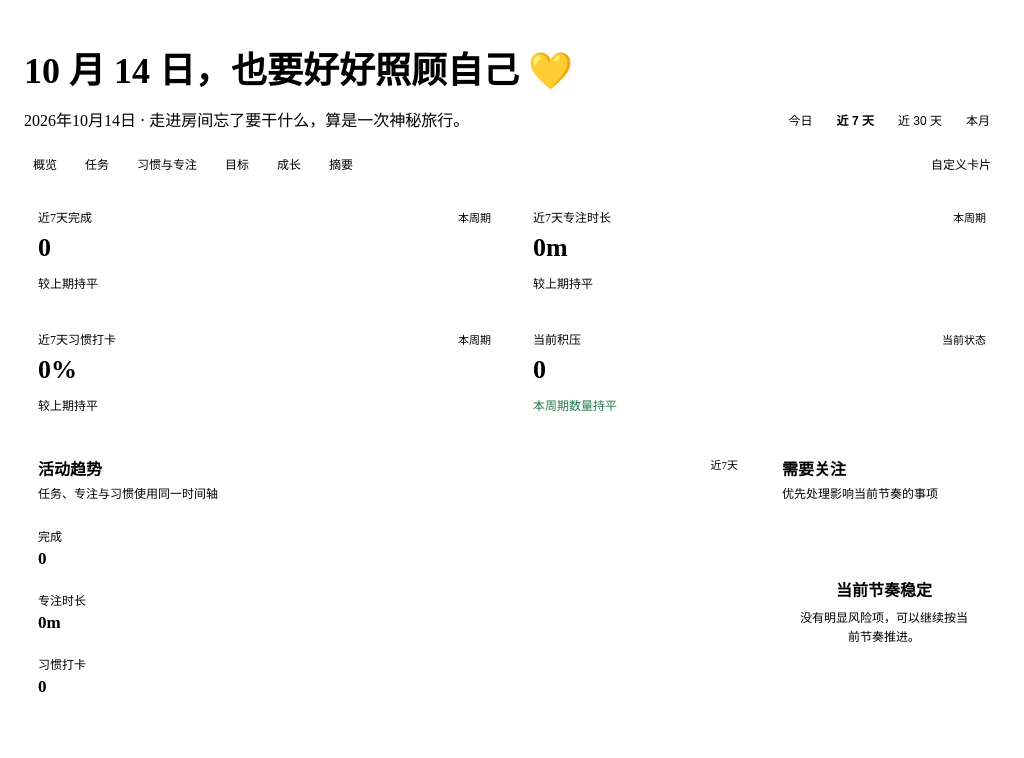
Scenario: PersonalStatsView › growth workbench preserves balances on a failed purchase and refreshes the shop
Click the tab "成长": coordinates (289, 164) [266,148,312,180]
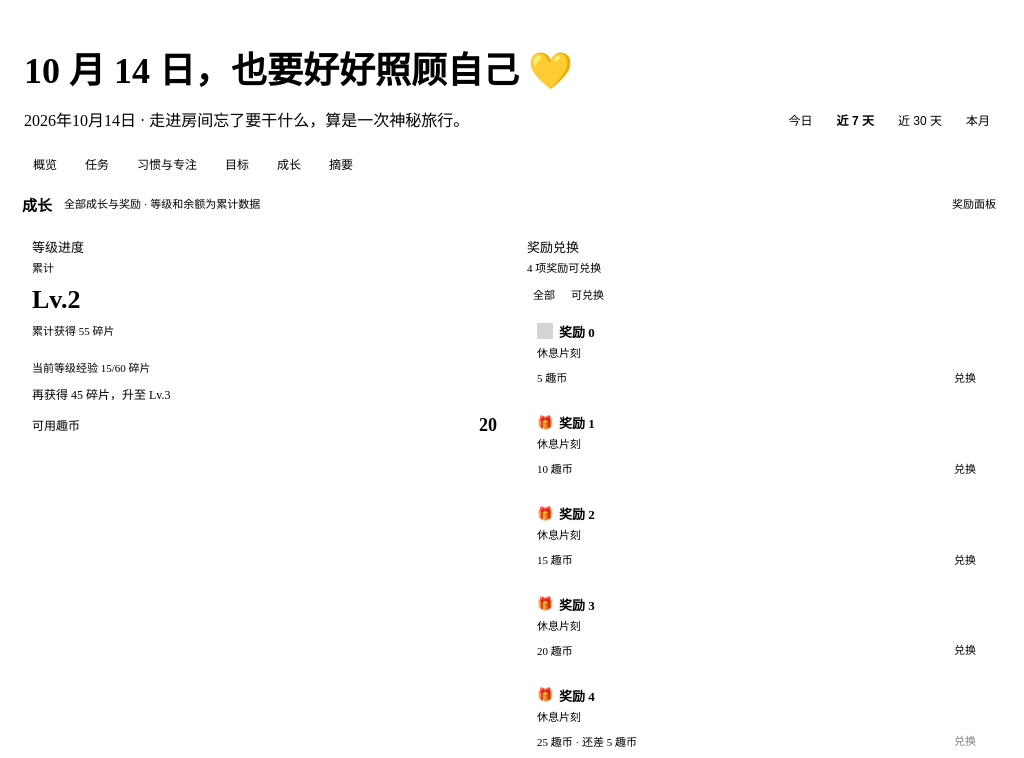
Click the 1st button with class "growth-redeem": coordinates (965, 378) [948,368,982,389]
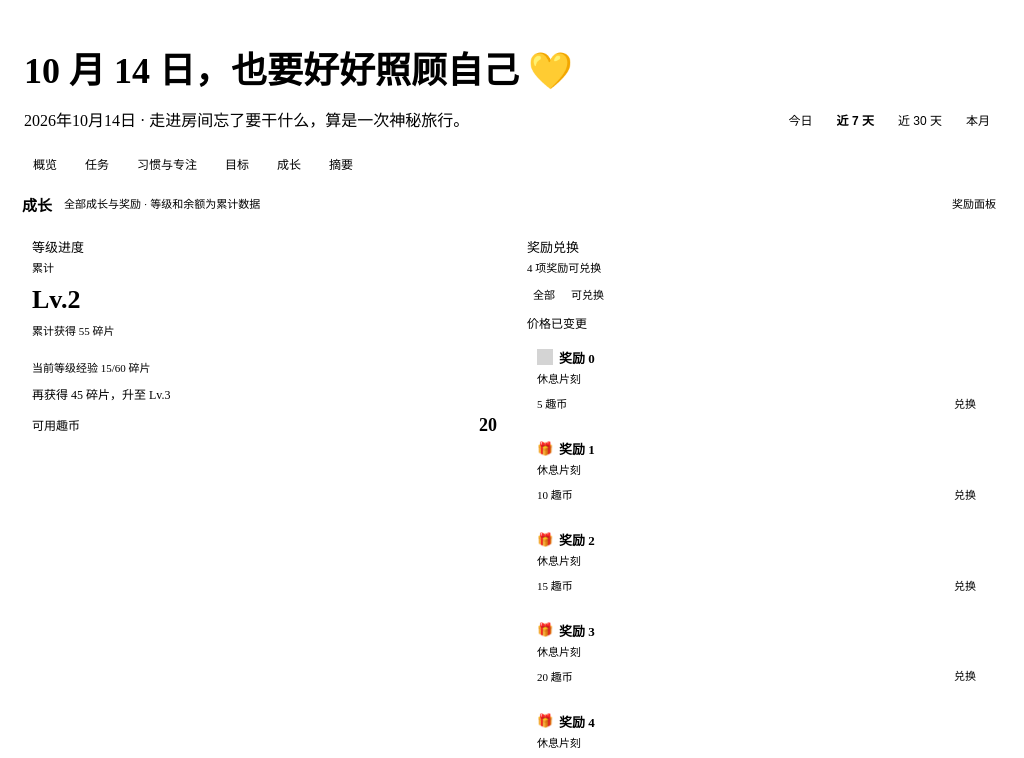
Result: the text "20" is shown at [479,415,497,436]
Result: the message with class "growth-error" reads "价格已变更" at [527,317,587,331]
